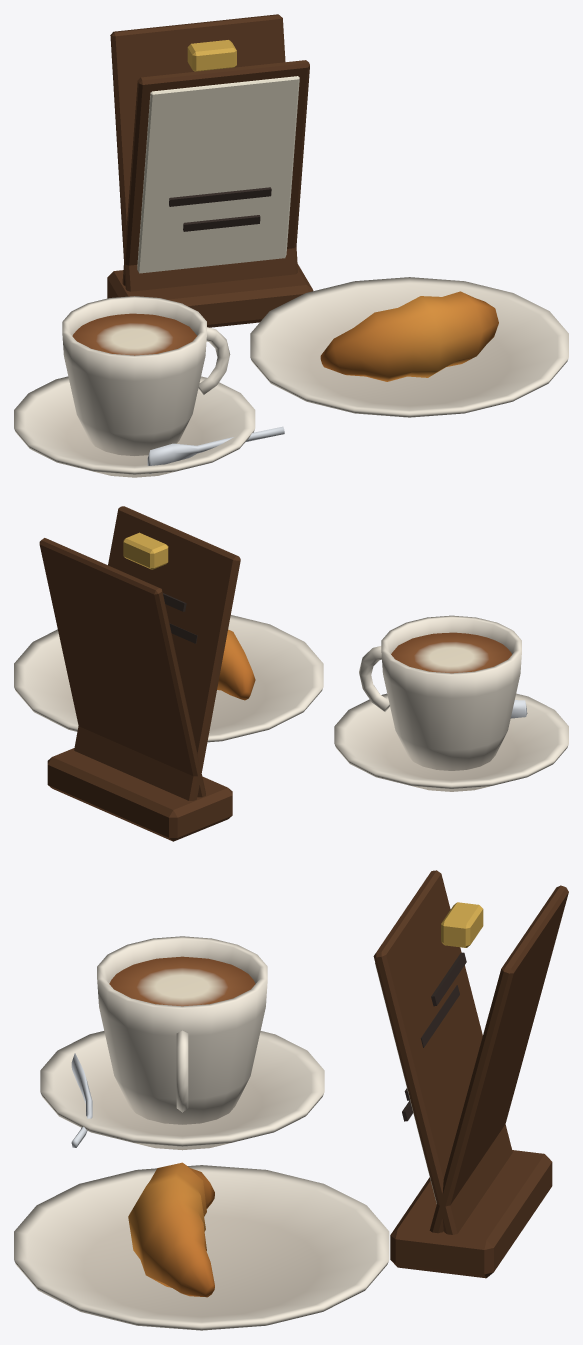
The model's file is cafe_tabletop_clutter_aaa-e1b2c871a37e.glb.
3 views of the same model, one above another, from view 1: azimuth 30°, elevation 25°; view 2: azimuth 150°, elevation 25°; view 3: azimuth 270°, elevation 25° (orthographic). The views are drawn at different scales.
Visible parts, largest first — view 1: Cafe_Tabletop_Clutter; view 2: Cafe_Tabletop_Clutter; view 3: Cafe_Tabletop_Clutter.
Boxes of the visible parts, x1=… form: Cafe_Tabletop_Clutter: x1=14, y1=14, x2=568, y2=477; Cafe_Tabletop_Clutter: x1=14, y1=506, x2=568, y2=841; Cafe_Tabletop_Clutter: x1=14, y1=870, x2=568, y2=1330.
Size of the model in its own units: 0.374 by 0.181 by 0.2882.
